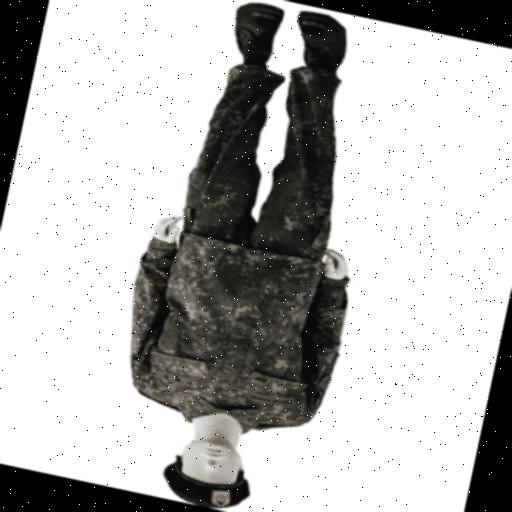korea army: (91, 0, 409, 512)
